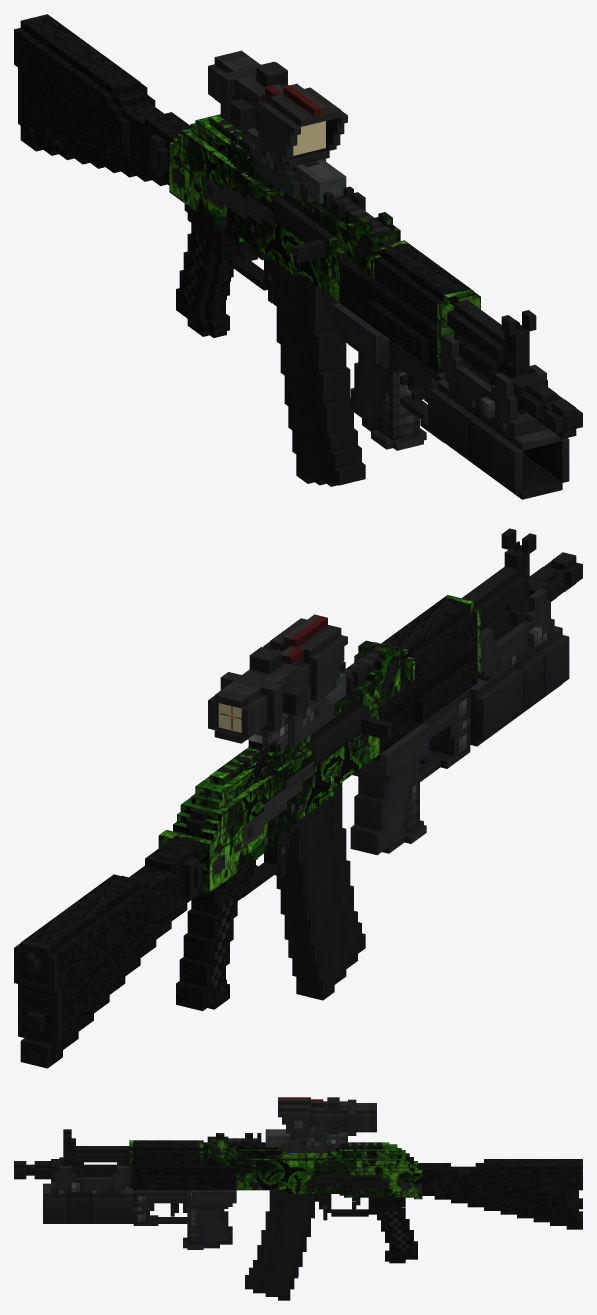
The model's file is RD_AK102_ZOMBIE.glb.
The picture shows the model from 3 angles, top to bottom: view 1: azimuth 30°, elevation 25°; view 2: azimuth 150°, elevation 25°; view 3: azimuth 270°, elevation 25°; orthographic projection. The views are drawn at different scales.
Visible parts, largest first — view 1: AK102, GP_GP30, AK102_CLIP, SCOPE_ACOG, SCOPE_EOTECH, GRIP1; view 2: AK102, GP_GP30, AK102_CLIP, SCOPE_ACOG, SCOPE_EOTECH, GRIP1, SCOPE_AIMPOINT; view 3: AK102, GP_GP30, AK102_CLIP, SCOPE_ACOG, SCOPE_EOTECH, GRIP1, SCOPE_AIMPOINT.
Boxes of the visible parts, x1=… form: AK102: x1=14, y1=14, x2=582, y2=438; GP_GP30: x1=333, y1=303, x2=569, y2=499; AK102_CLIP: x1=273, y1=261, x2=365, y2=486; SCOPE_ACOG: x1=208, y1=50, x2=347, y2=202; SCOPE_EOTECH: x1=254, y1=131, x2=346, y2=203; GRIP1: x1=371, y1=335, x2=426, y2=450; AK102: x1=14, y1=528, x2=582, y2=1068; GP_GP30: x1=350, y1=588, x2=569, y2=855; AK102_CLIP: x1=276, y1=782, x2=365, y2=1000; SCOPE_ACOG: x1=208, y1=614, x2=347, y2=743; SCOPE_EOTECH: x1=282, y1=672, x2=346, y2=746; GRIP1: x1=400, y1=722, x2=426, y2=844; SCOPE_AIMPOINT: x1=247, y1=686, x2=310, y2=753; AK102: x1=14, y1=1129, x2=582, y2=1263; GP_GP30: x1=43, y1=1157, x2=236, y2=1248; AK102_CLIP: x1=245, y1=1190, x2=318, y2=1300; SCOPE_ACOG: x1=278, y1=1097, x2=376, y2=1150; SCOPE_EOTECH: x1=265, y1=1126, x2=327, y2=1152; GRIP1: x1=183, y1=1190, x2=203, y2=1249; SCOPE_AIMPOINT: x1=311, y1=1126, x2=347, y2=1150.
Size of the model in its own units: 0.1083 by 0.5217 by 1.36.
9 materials, 9 textured.
